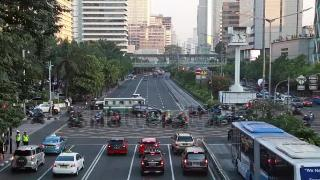mobil: (12, 144, 42, 174), (52, 150, 80, 178), (182, 148, 210, 176), (142, 150, 164, 176), (106, 136, 130, 158), (172, 134, 198, 154), (44, 134, 66, 154), (140, 136, 158, 156)
